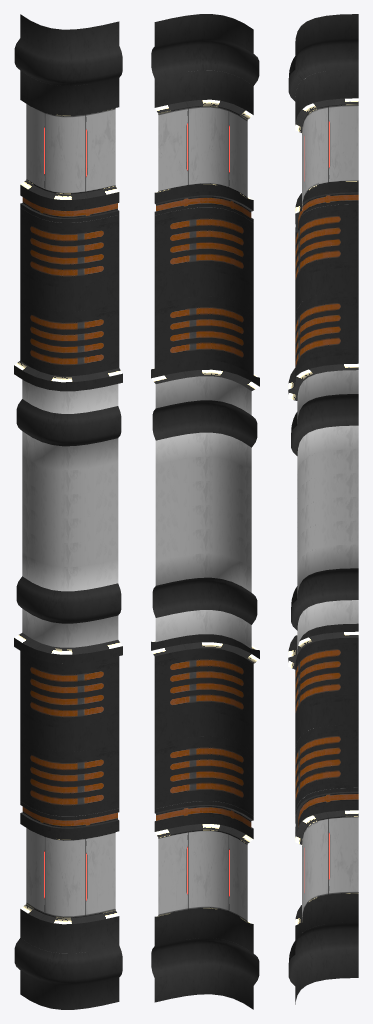
File: SuperLargeCurvedWallInvert.fbx
3 renders of one model, left to right at view 1: azimuth 30°, elevation 25°; view 2: azimuth 210°, elevation 25°; view 3: azimuth 270°, elevation 25°, orthographic.
Visible parts, largest first — view 1: Wall1.009; view 2: Wall1.009; view 3: Wall1.009.
Part boxes in pixels (x1,y1,x2,y2): Wall1.009: (14,14,122,1009); Wall1.009: (151,14,259,1009); Wall1.009: (288,14,358,1004).
Bounding box in the file's own units: 148 × 1900 × 126.
